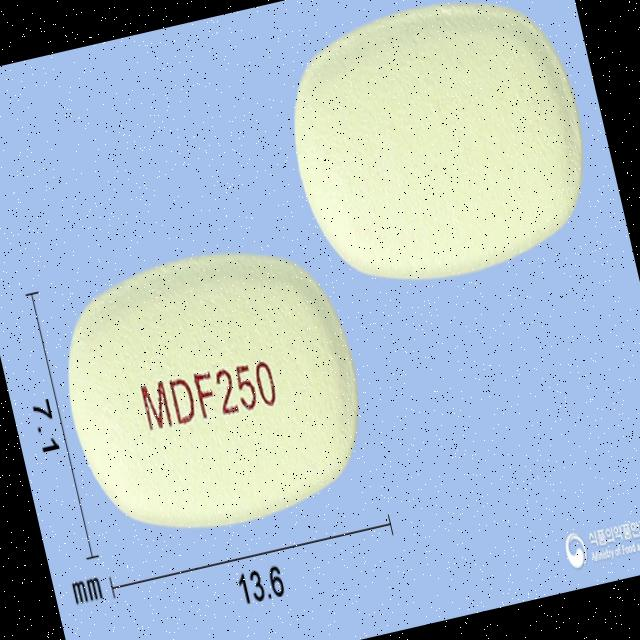Clarid - 250mg: (40, 223, 388, 562), (267, 0, 610, 305)
